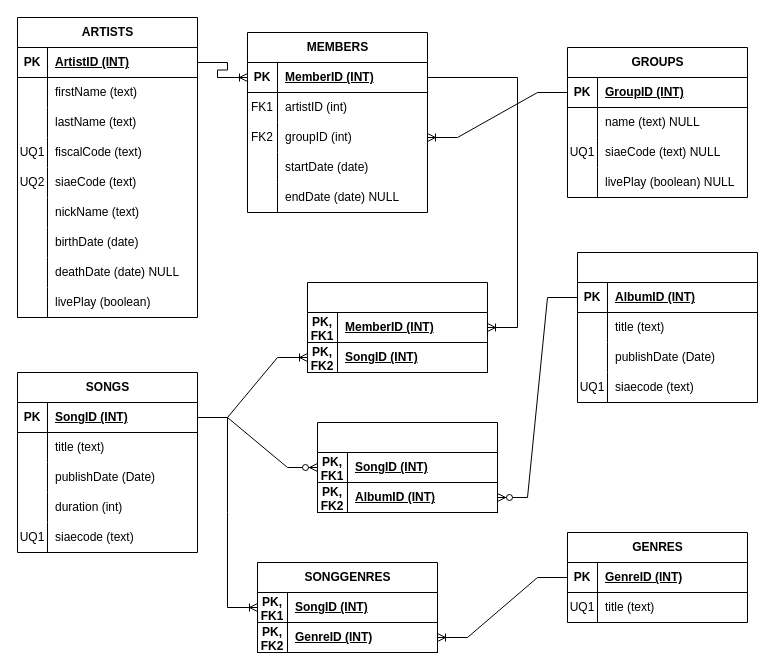
The diagram is 775 pixels wide and 670 high, and some of its shapes have lost their labels. Here are the shapes that lost their labels. From the top down, the box of each, then its label:
(306, 282, 488, 372): PROPERTIES
(576, 252, 758, 402): ALBUMS
(316, 422, 498, 512): SONGLISTS
